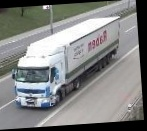truck: (8, 18, 125, 112)
